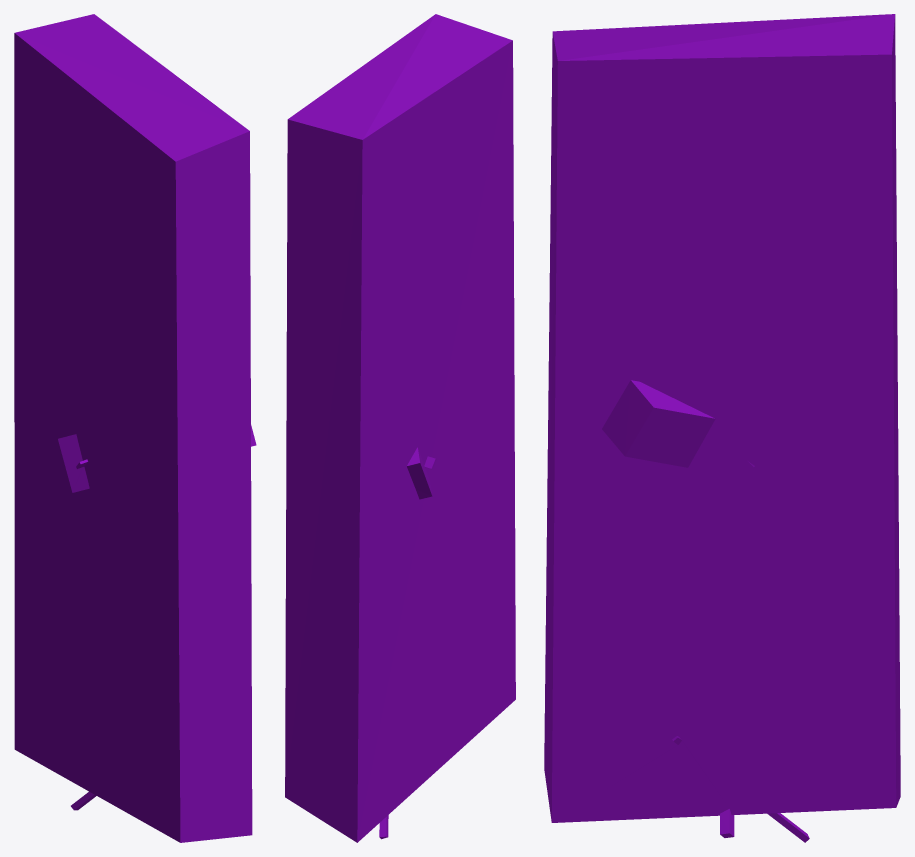
3 views of the same model, side by side, from view 1: azimuth 30°, elevation 25°; view 2: azimuth 150°, elevation 25°; view 3: azimuth 270°, elevation 25° (orthographic). The views are drawn at different scales.
Visible parts, largest first — view 1: 562_Cube.2264; view 2: 562_Cube.2264; view 3: 562_Cube.2264.
Part boxes in pixels (x1,y1,x2,y2): 562_Cube.2264: (14,14,256,842); 562_Cube.2264: (285,14,515,842); 562_Cube.2264: (544,14,900,842).
Bounding box in the file's own units: 2.24 × 12.85 × 5.08.
